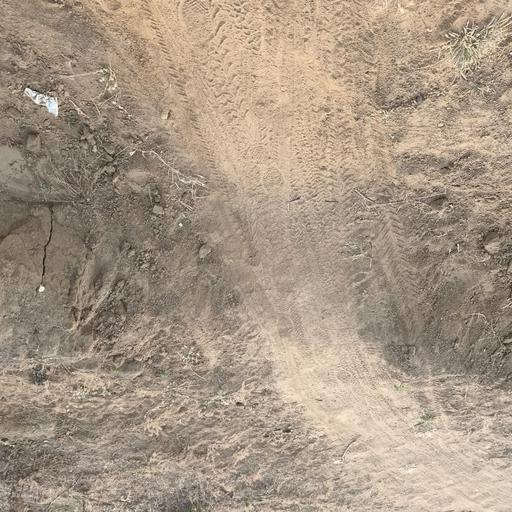vehicle_track: (67, 0, 512, 512)
